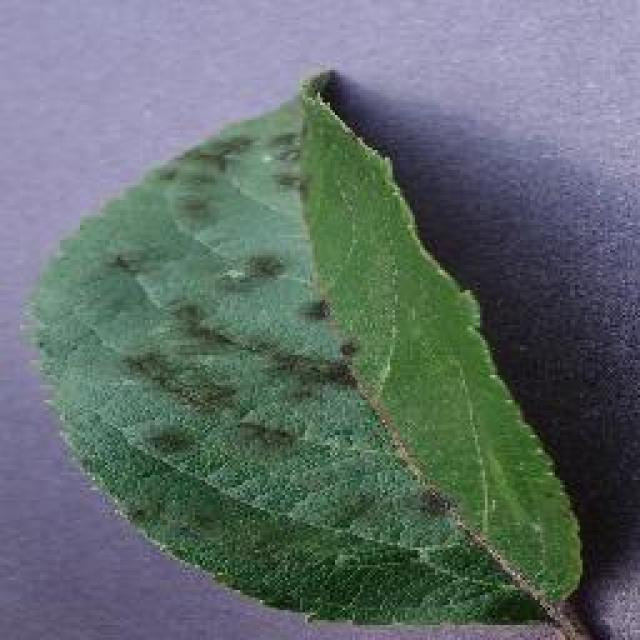apple scab disease: (27, 65, 595, 630)
